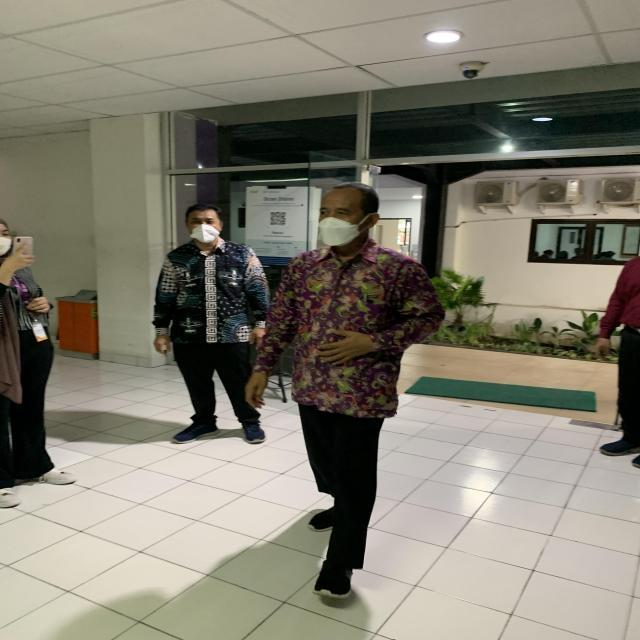hairnet: (182, 202, 225, 248)
